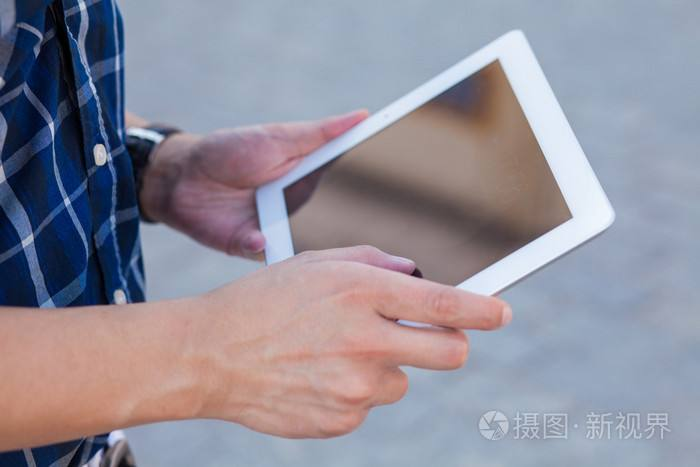pad: (163, 16, 617, 411)
